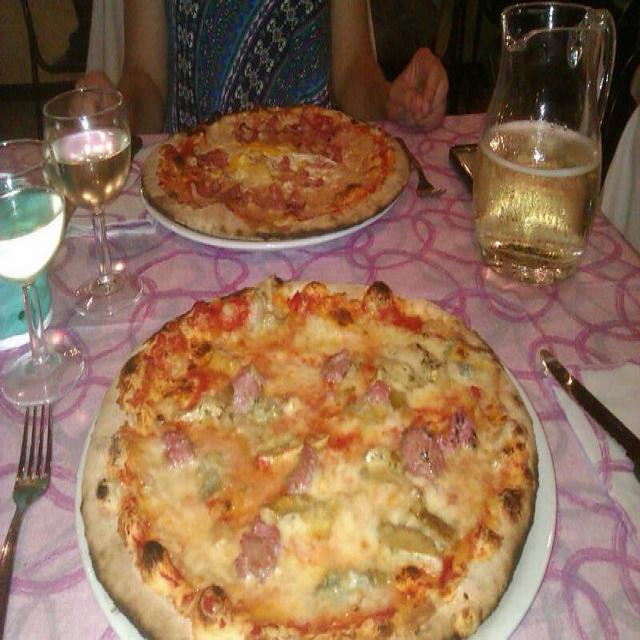chair: (21, 0, 93, 141), (443, 0, 468, 116)
dining table: (0, 84, 640, 640)
